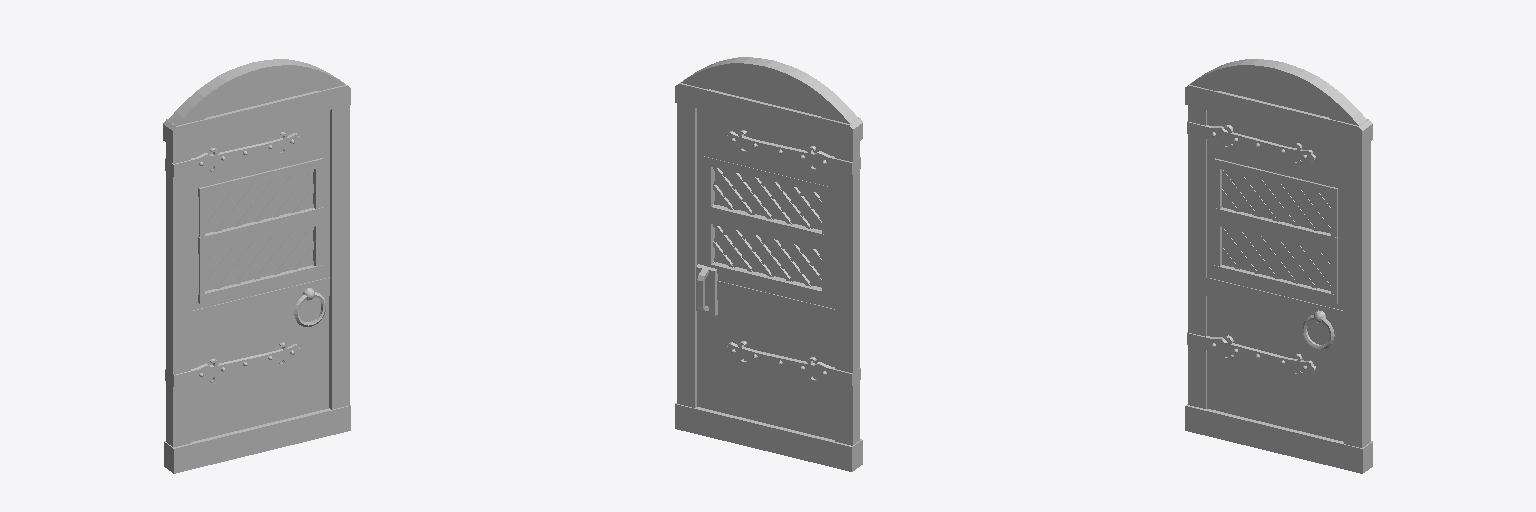
The model's file is Door_7_Round.obj.
3 views of the same model, side by side, from view 1: azimuth 30°, elevation 25°; view 2: azimuth 150°, elevation 25°; view 3: azimuth 330°, elevation 25° (orthographic).
Parts seen in each view (by area): view 1: Door_7_Round; view 2: Door_7_Round; view 3: Door_7_Round.
Part boxes in pixels (x1,y1,x2,y2): Door_7_Round: (163,59,350,473); Door_7_Round: (675,57,862,471); Door_7_Round: (1185,59,1372,473).
Size of the model in its own units: 1.13 by 2.33 by 0.2093.